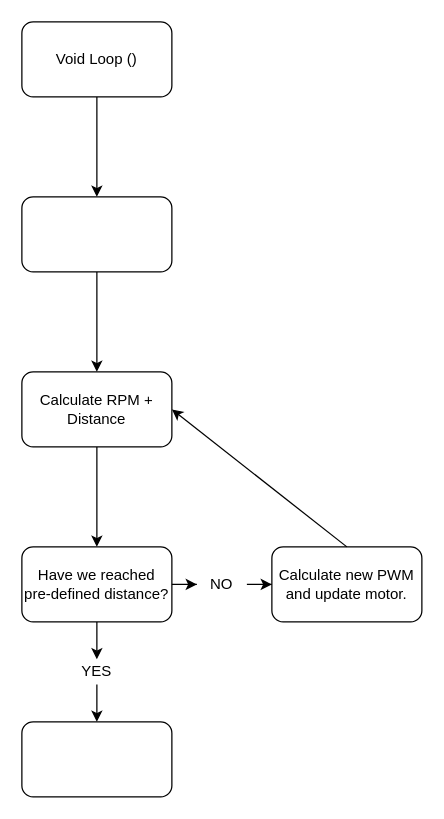
This 444x819 diagram has some shape labels left out. Here are the shapes that lost their labels. From the top down, the box of each, then its label:
(21, 196, 172, 272): Jump start motor.
(21, 721, 172, 797): Set PWM to 0 and stop motor.
